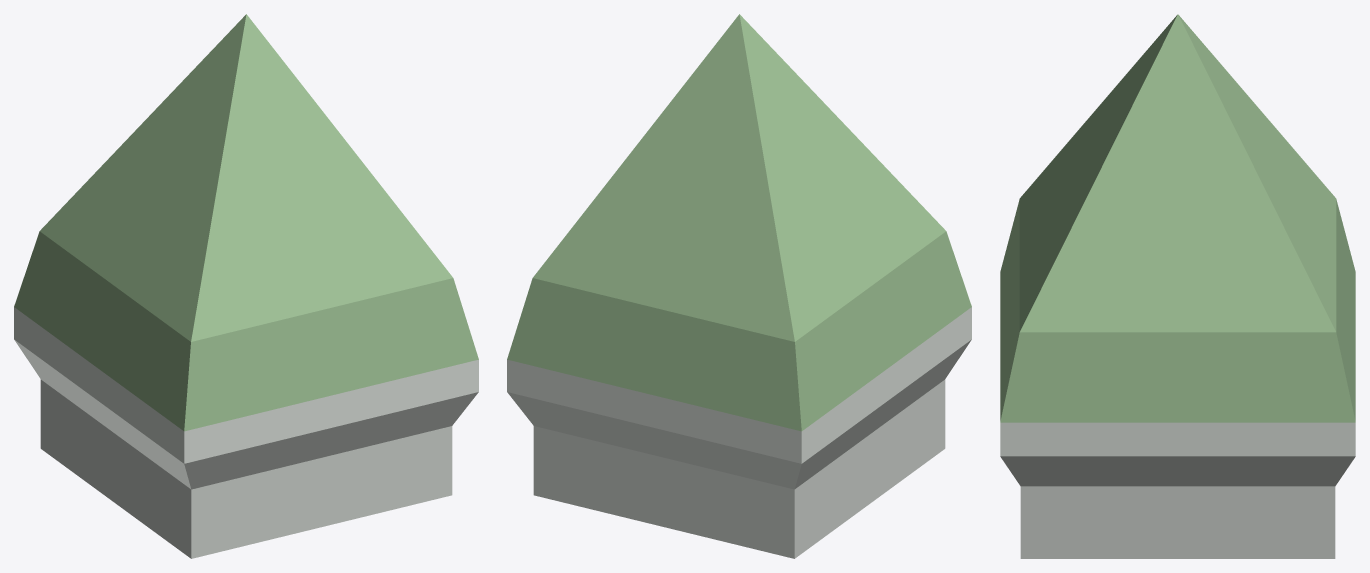
Rendered from tower-defense-classic--tile-052.glb.
3 views of the same model, side by side, from view 1: azimuth 30°, elevation 25°; view 2: azimuth 150°, elevation 25°; view 3: azimuth 270°, elevation 25° (orthographic). The views are drawn at different scales.
Visible parts, largest first — view 1: tile_052; view 2: tile_052; view 3: tile_052.
Part boxes in pixels (x1,y1,x2,y2): tile_052: [14, 14, 478, 558]; tile_052: [507, 14, 971, 558]; tile_052: [1000, 14, 1355, 558].
Size of the model in its own units: 0.6668 by 0.99 by 0.6668.
